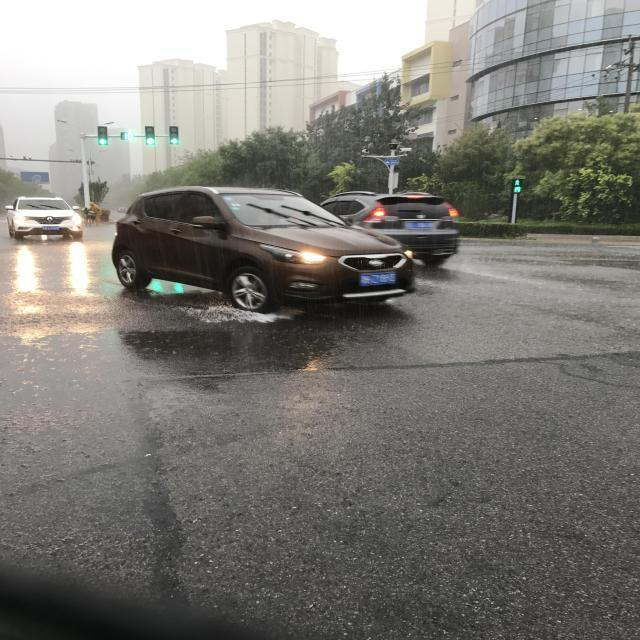car: (184, 228, 306, 528), (191, 180, 271, 319), (197, 560, 240, 634)
